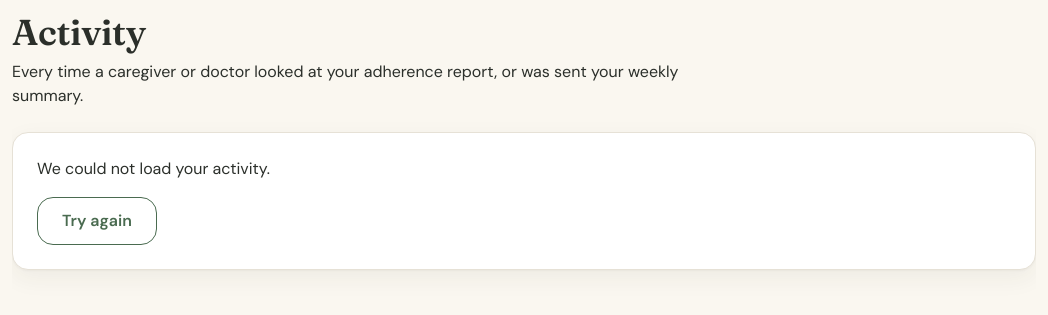
it: ActivityPage › offers a retry when loading fails
Expected: the text "We could not load your activity." is shown, [37,158,270,179]
Click the button "Try again" at [97, 221], box [37,197,157,245]
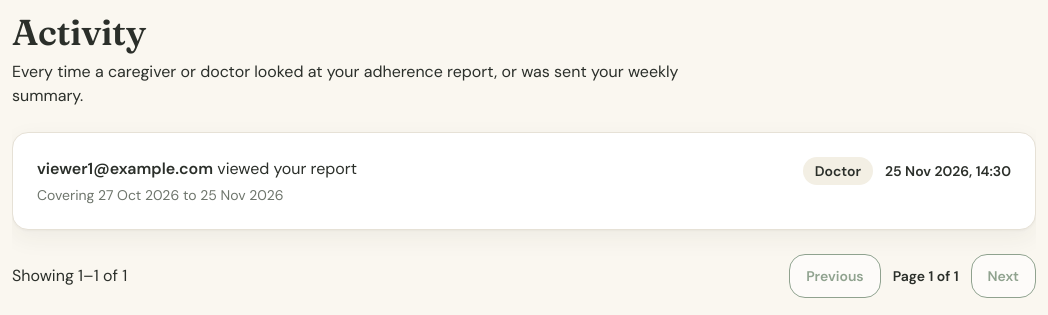
Expected: the text "viewer1@example.com" is shown, [37,158,213,179]
